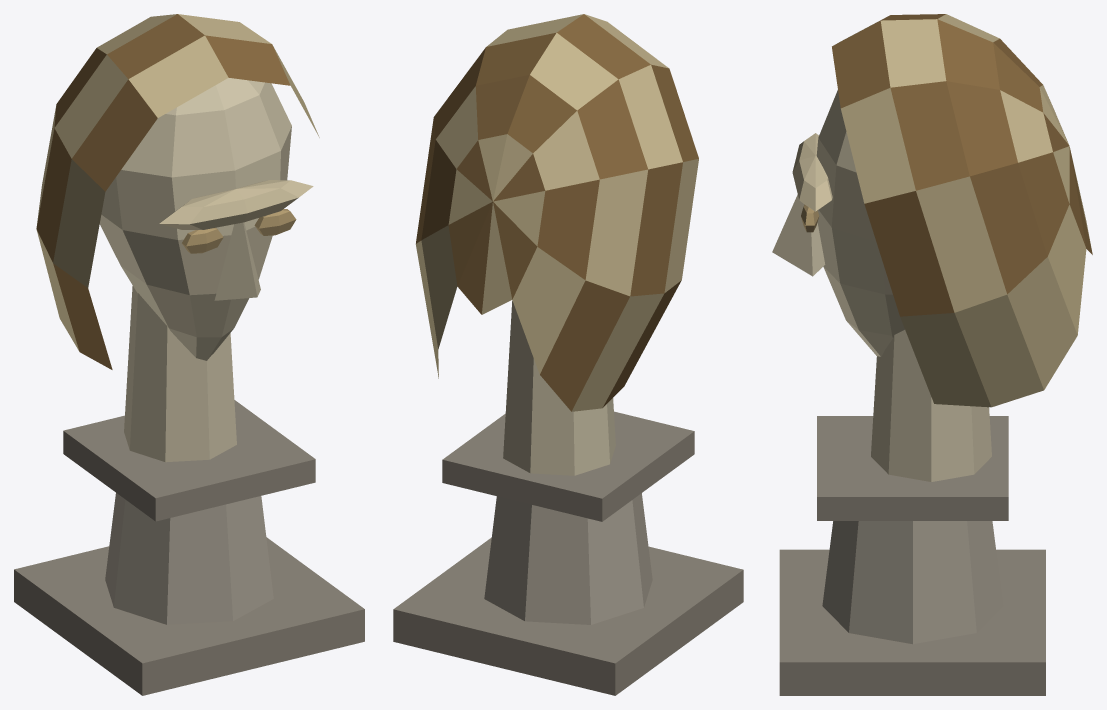
The model's file is venus.glb.
3 renders of one model, left to right at view 1: azimuth 30°, elevation 25°; view 2: azimuth 150°, elevation 25°; view 3: azimuth 270°, elevation 25°, orthographic. The views are drawn at different scales.
Visible parts, largest first — view 1: venus; view 2: venus; view 3: venus.
Boxes of the visible parts, x1=… form: venus: x1=14, y1=14, x2=364, y2=695; venus: x1=393, y1=14, x2=743, y2=695; venus: x1=772, y1=14, x2=1092, y2=695.
Bounding box in the file's own units: 0.5229 × 1.29 × 0.6028.
